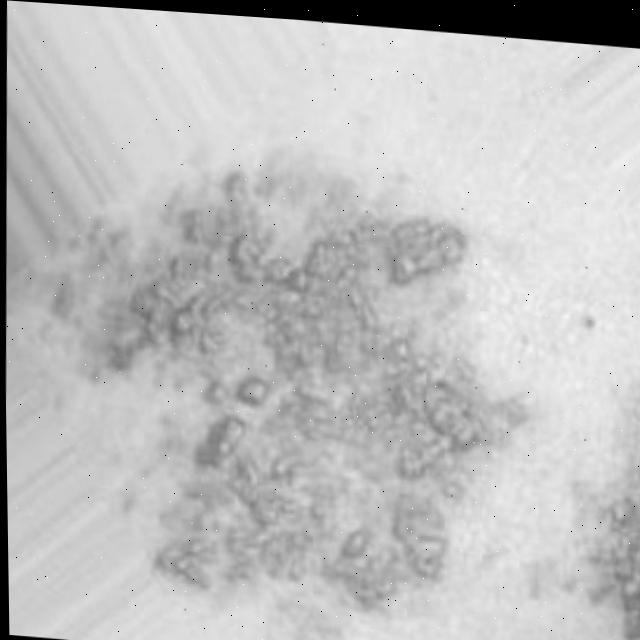Shingles: (32, 158, 530, 637), (574, 369, 640, 635)
